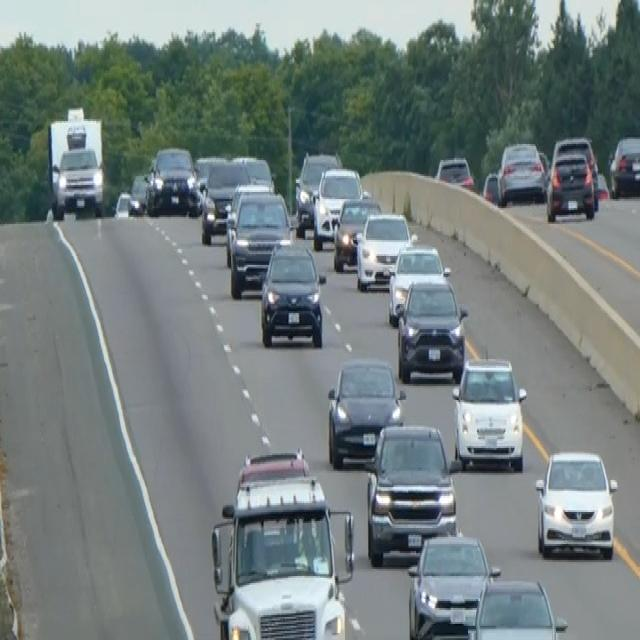car: (364, 422, 457, 566), (406, 532, 500, 638), (534, 446, 618, 560), (326, 356, 406, 468), (451, 354, 527, 471), (396, 274, 468, 382), (259, 236, 326, 348), (226, 187, 292, 297), (467, 574, 568, 638), (387, 242, 448, 325), (355, 208, 412, 290), (200, 158, 251, 244), (223, 179, 273, 265), (312, 165, 362, 249), (293, 149, 341, 233), (332, 194, 381, 272), (545, 148, 596, 222), (146, 144, 199, 215), (497, 138, 546, 204), (609, 134, 639, 198), (232, 151, 274, 190), (434, 153, 475, 192), (193, 151, 226, 194), (127, 171, 149, 215), (481, 169, 501, 204), (113, 188, 131, 218)
lorry: (209, 446, 356, 638)
truck: (46, 105, 106, 219)
